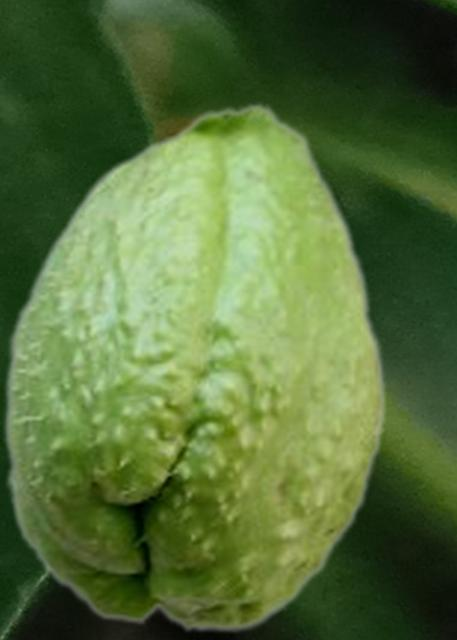sayote: (2, 100, 388, 634)
